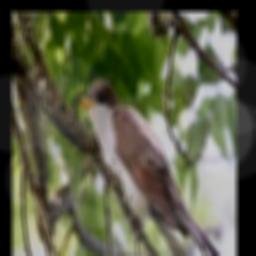Cuckoo: (74, 81, 231, 256)
